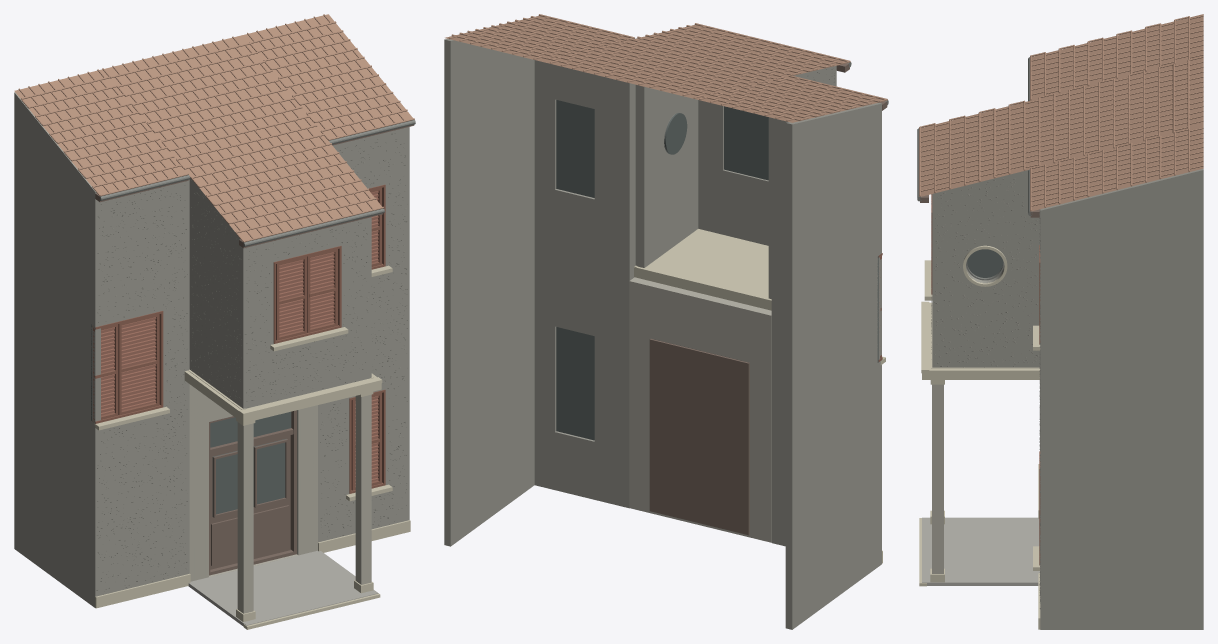
The model's file is fuxing-north-portico-near.glb.
The picture shows the model from 3 angles, left to right: view 1: azimuth 30°, elevation 25°; view 2: azimuth 150°, elevation 25°; view 3: azimuth 270°, elevation 25°; orthographic projection. The views are drawn at different scales.
Parts seen in each view (by area): view 1: 复兴中路471–477号花园住宅北栋东门廊与圆窗; view 2: 复兴中路471–477号花园住宅北栋东门廊与圆窗; view 3: 复兴中路471–477号花园住宅北栋东门廊与圆窗.
Boxes of the visible parts, x1=… form: 复兴中路471–477号花园住宅北栋东门廊与圆窗: x1=14, y1=14, x2=415, y2=629; 复兴中路471–477号花园住宅北栋东门廊与圆窗: x1=444, y1=14, x2=888, y2=629; 复兴中路471–477号花园住宅北栋东门廊与圆窗: x1=917, y1=14, x2=1203, y2=629.
Size of the model in its own units: 6.91 by 9.64 by 5.41.
